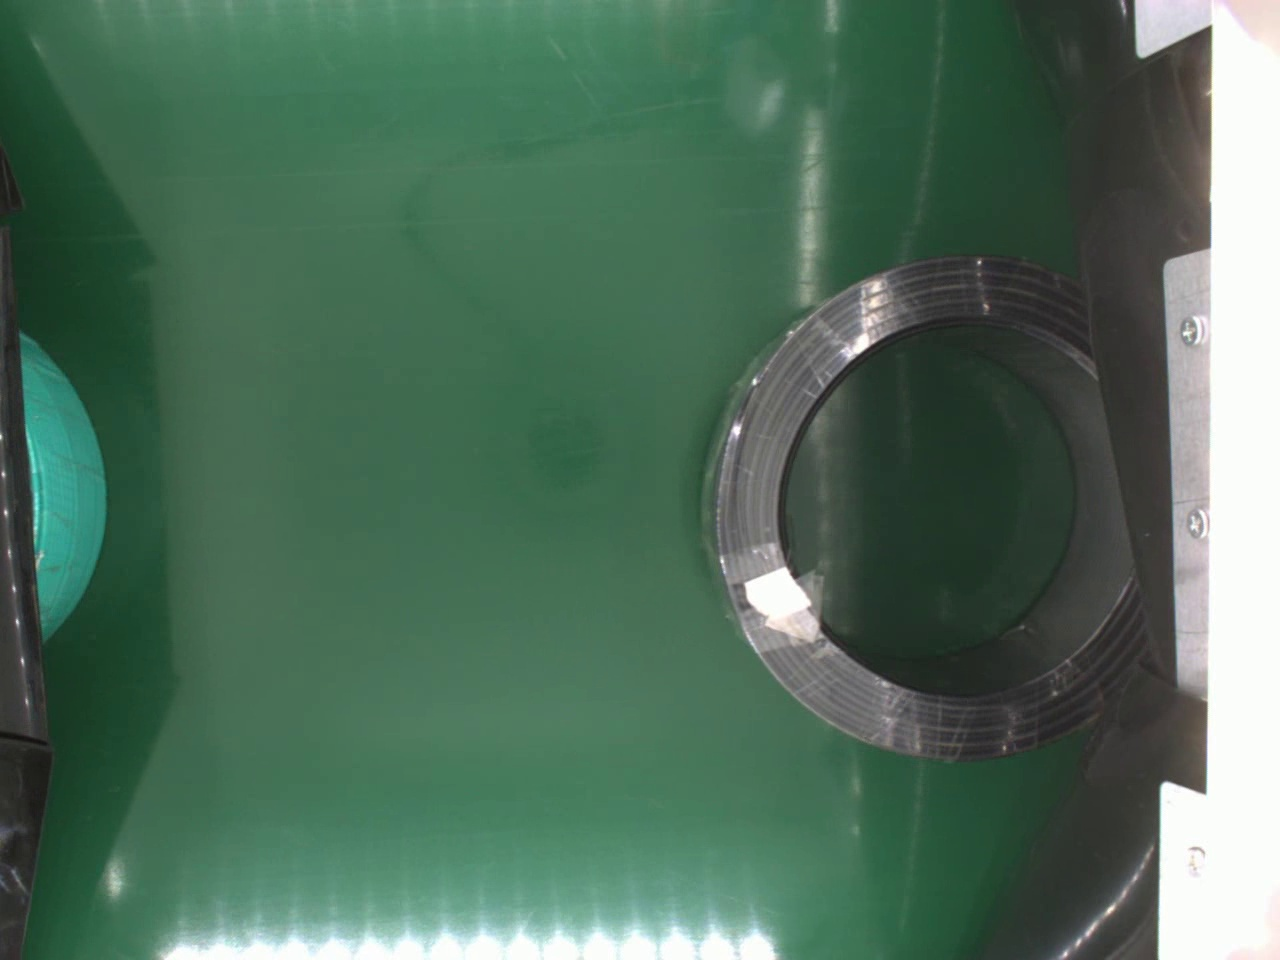black: (694, 254, 1166, 749)
